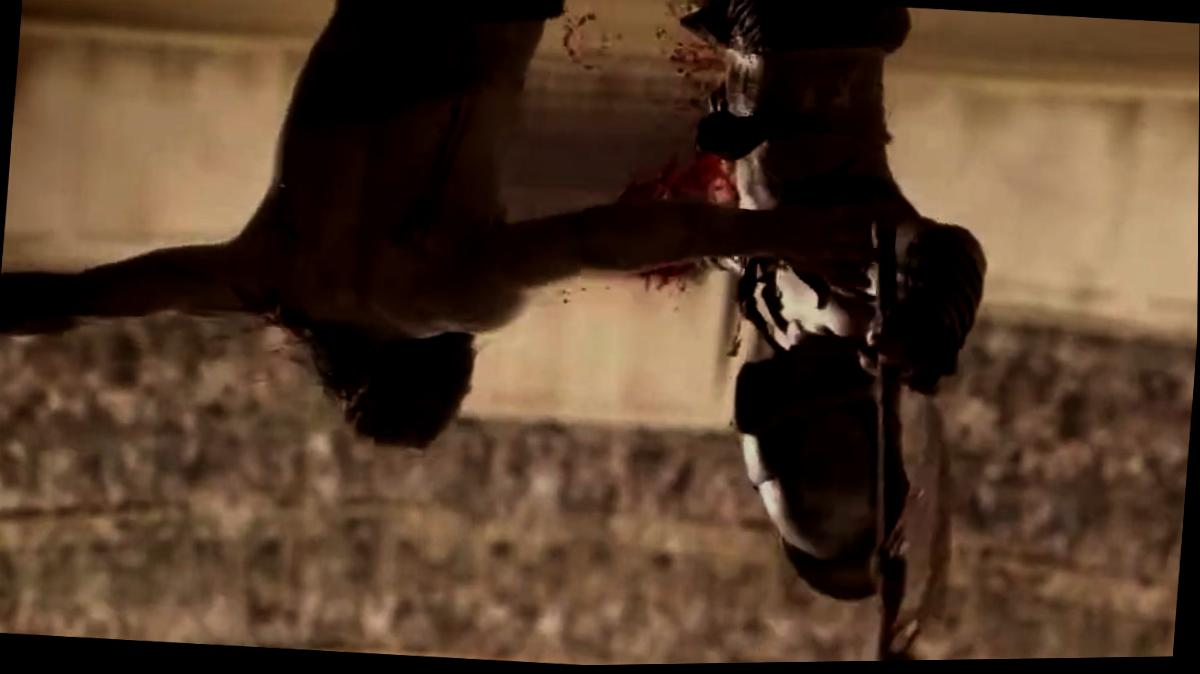Fire: (645, 1, 726, 116), (620, 154, 738, 209), (557, 12, 646, 74), (641, 262, 717, 297)
